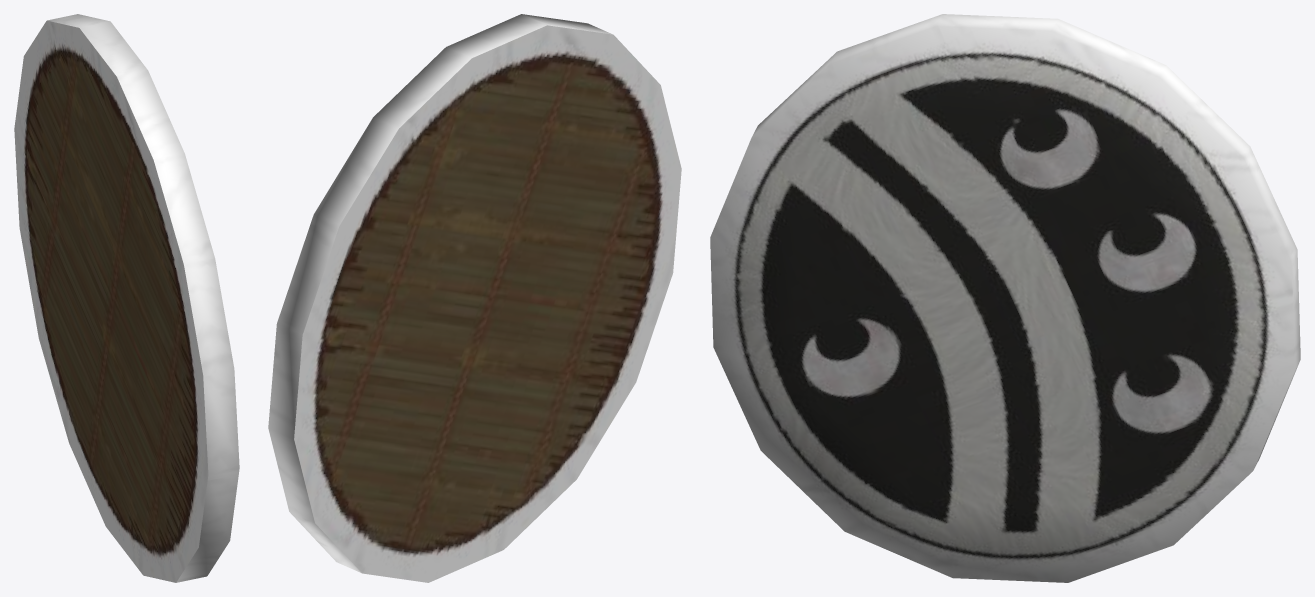
File: shield-featheredshields.glb
The picture shows the model from 3 angles, left to right: view 1: azimuth 30°, elevation 25°; view 2: azimuth 150°, elevation 25°; view 3: azimuth 270°, elevation 25°; orthographic projection. The views are drawn at different scales.
Bounding box in the file's own units: 0.1038 × 0.4119 × 0.4078.
Materials: 1 (1 with a texture image).
